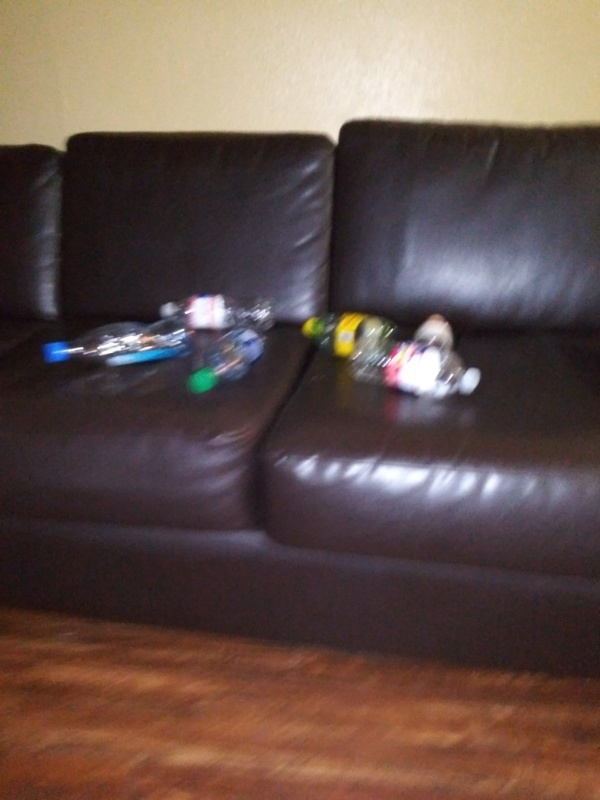bottle: (40, 311, 204, 374), (348, 333, 485, 406), (182, 324, 279, 395), (158, 289, 285, 331), (295, 308, 403, 355), (415, 309, 458, 356)
